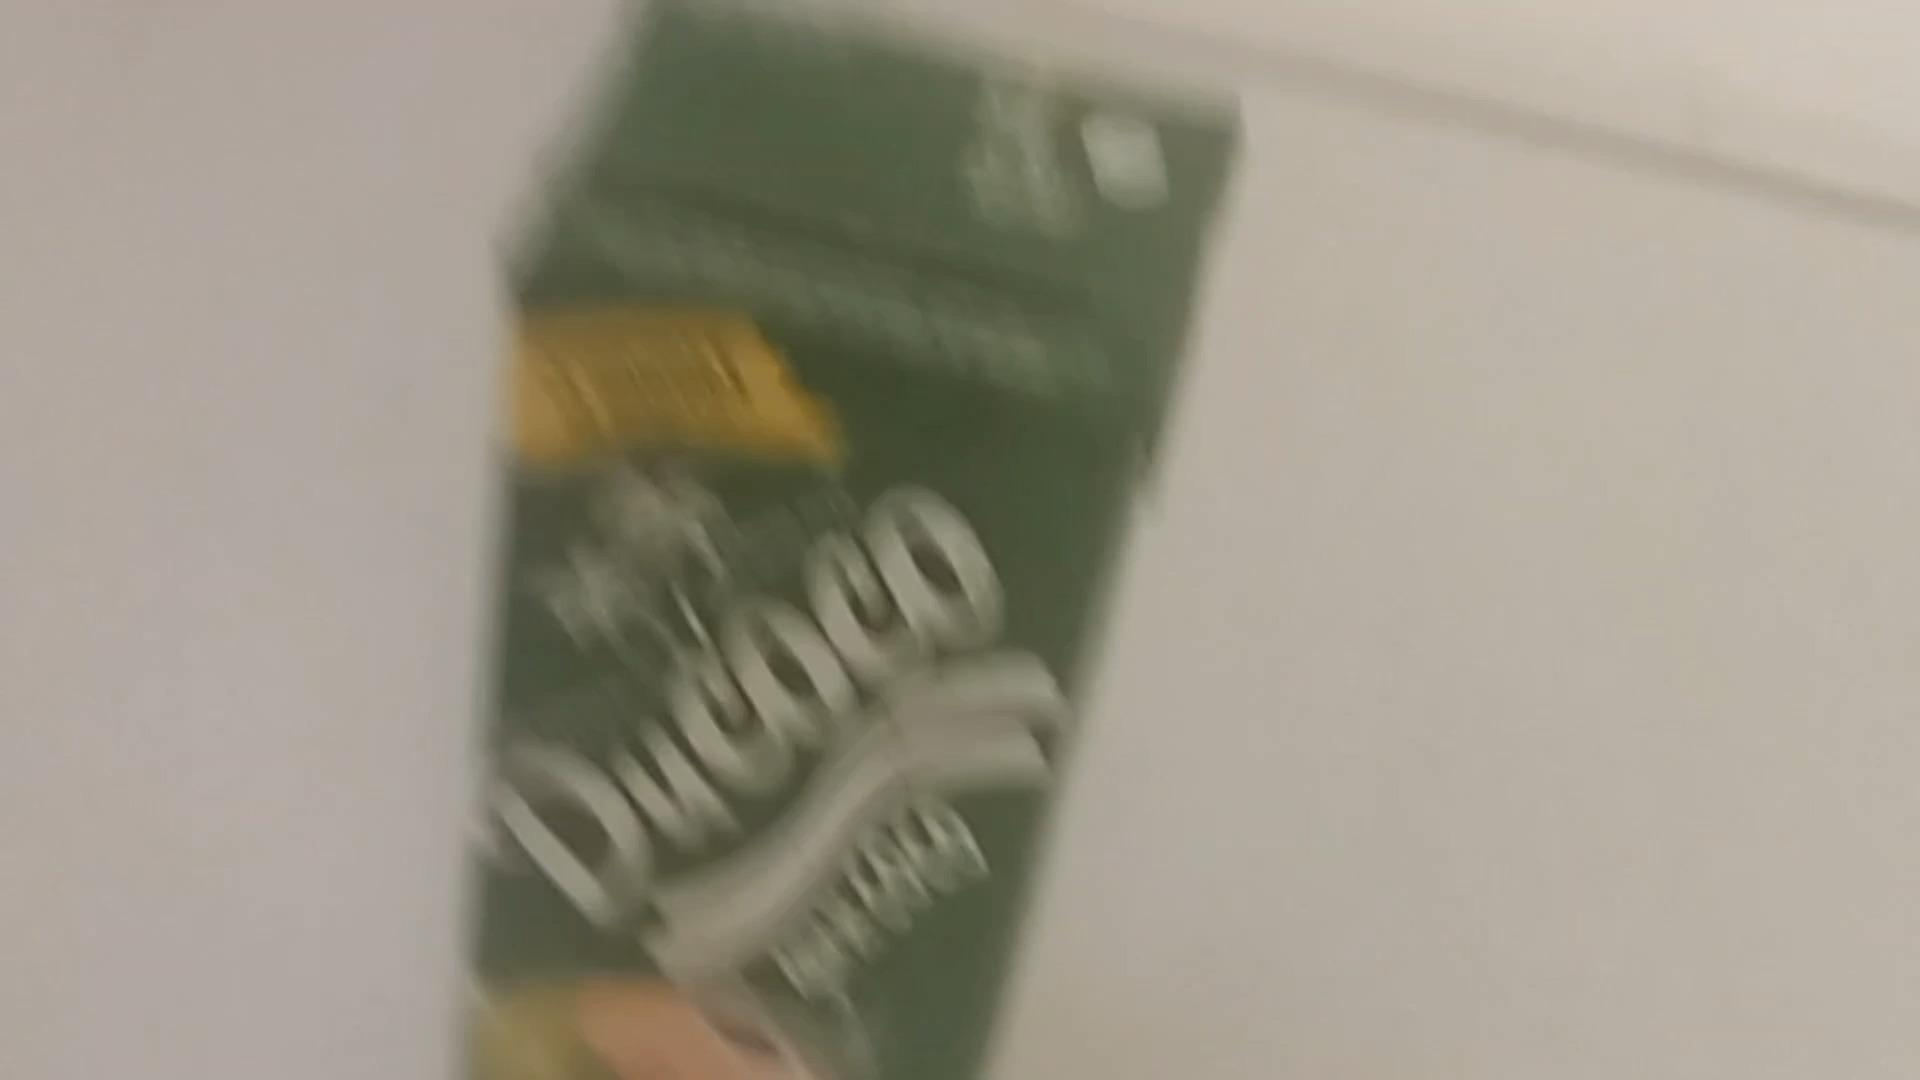coco: (459, 0, 1237, 1080)
